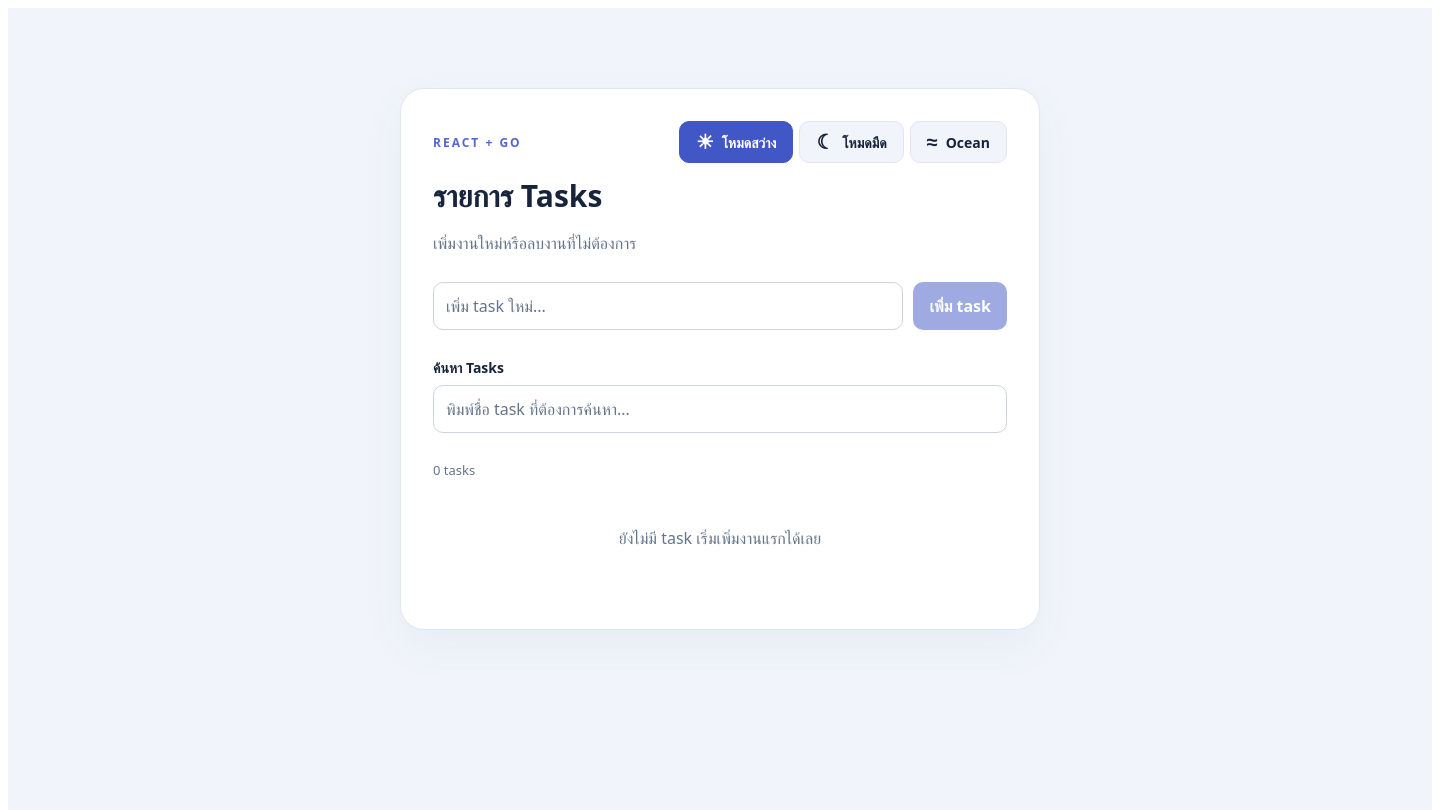
Scenario: App › adds a task and clears the input
The image size is (1440, 810).
Check: the text "ยังไม่มี task เริ่มเพิ่มงานแรกได้เลย" is shown, box [619, 527, 821, 549]
Step 1. Type " Test task " into the field → (668, 306), box [433, 282, 903, 330]
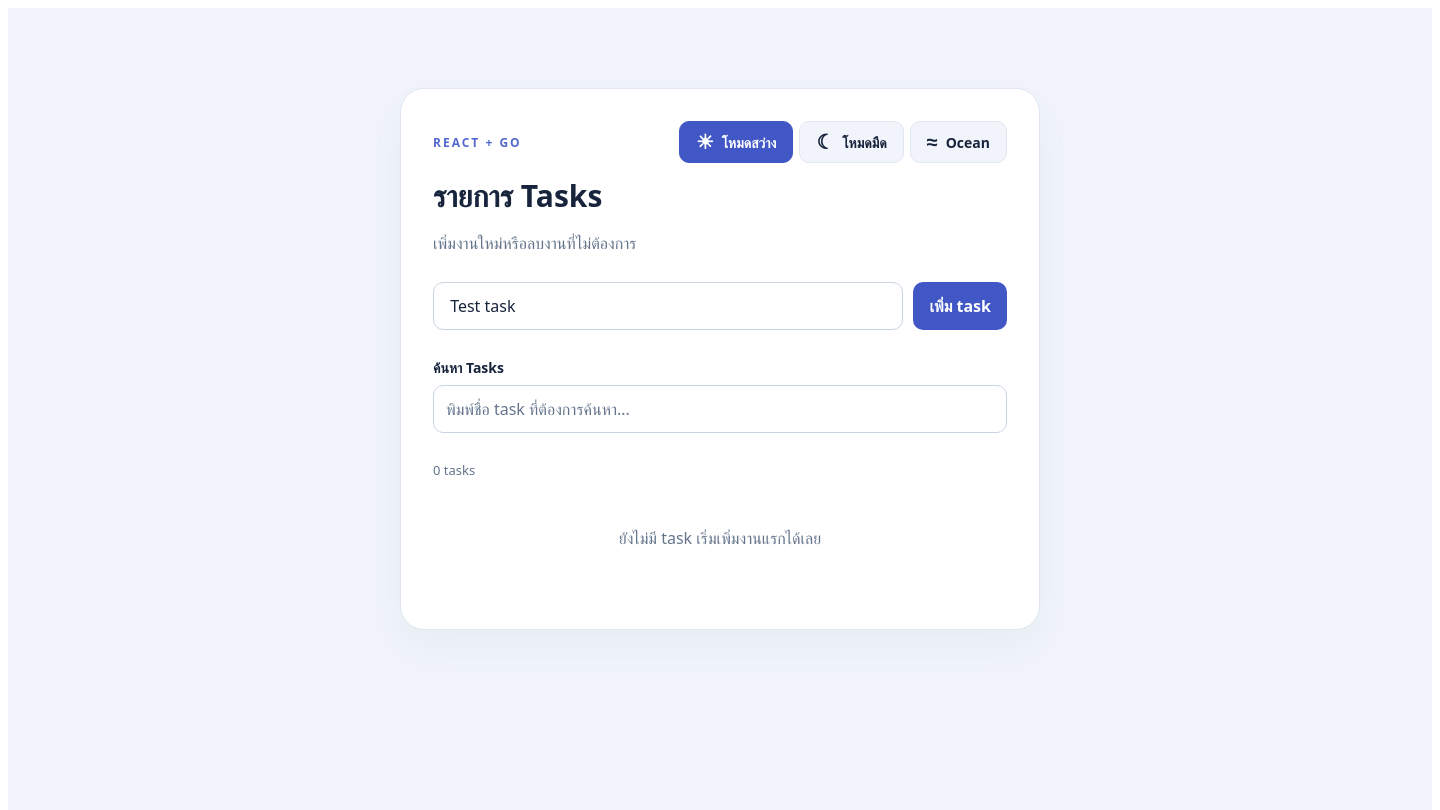
Step 2. Click the button "เพิ่ม task" → (960, 306), box [913, 282, 1007, 330]
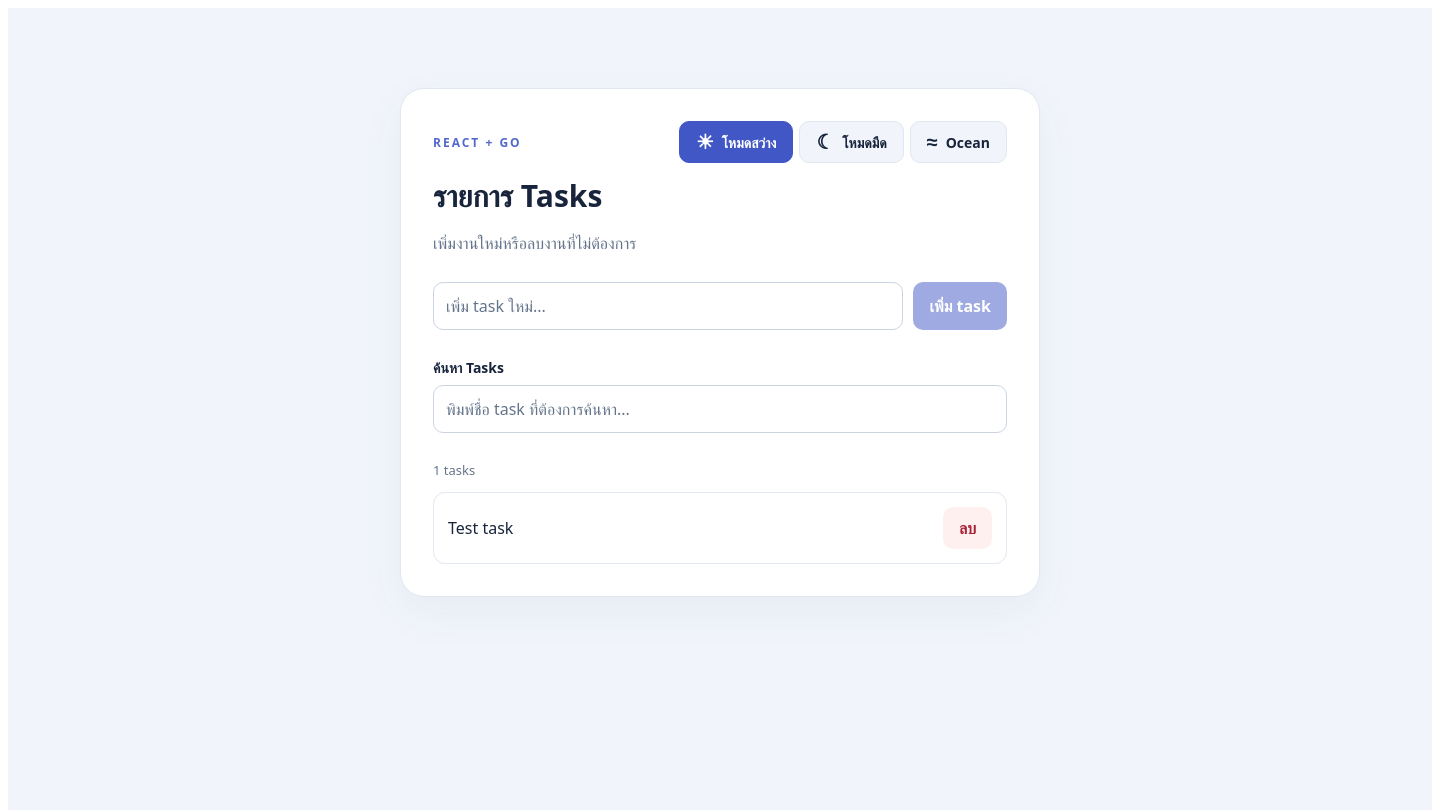
Check: the text "Test task" is shown, box [448, 517, 513, 539]
Check: the field is empty, box [433, 282, 903, 330]
